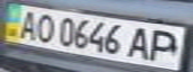0: (54, 15, 78, 47)
4: (87, 19, 109, 53)
6: (103, 21, 127, 56), (69, 17, 90, 51)
A: (124, 25, 157, 61), (12, 7, 42, 40)
O: (30, 11, 57, 43)
P: (145, 27, 187, 63)
